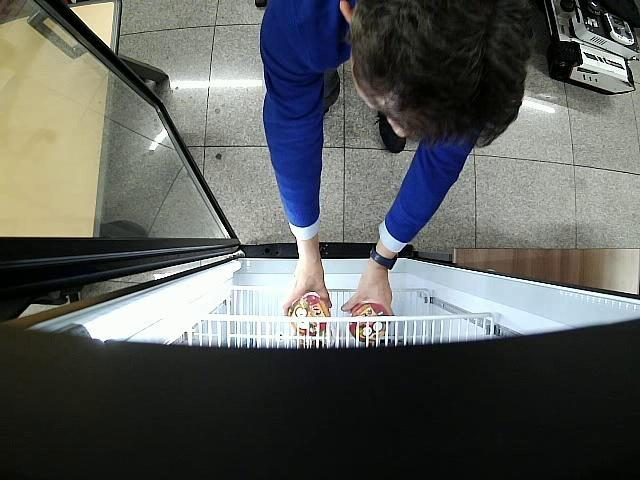06_nuguri_S: (287, 296, 330, 336), (349, 303, 388, 342)
